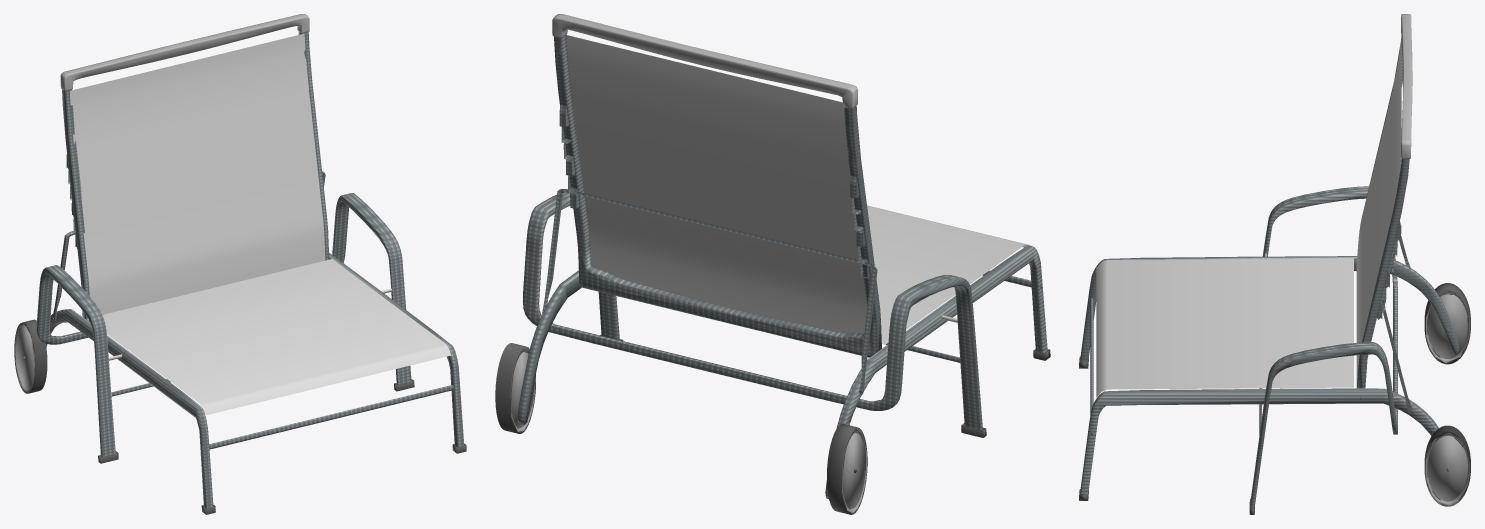
Rendered from sh-scopia-beach-chair.glb.
The picture shows the model from 3 angles, left to right: view 1: azimuth 30°, elevation 25°; view 2: azimuth 150°, elevation 25°; view 3: azimuth 270°, elevation 25°; orthographic projection. The views are drawn at different scales.
Visible parts, largest first — view 1: fabric_Cube_1_1_1_1, 3_3_3_3, 2_2_2_2, 6_6_6_6, 7_7_7_7; view 2: fabric_Cube_1_1_1_1, 3_3_3_3, 2_2_2_2, 6_6_6_6, 7_7_7_7; view 3: fabric_Cube_1_1_1_1, 3_3_3_3, 7_7_7_7, 6_6_6_6, 2_2_2_2.
Boxes of the visible parts, left/top/right/bottom form: fabric_Cube_1_1_1_1: left=70, top=33, right=451, bottom=415; 3_3_3_3: left=36, top=31, right=464, bottom=508; 2_2_2_2: left=60, top=14, right=309, bottom=90; 6_6_6_6: left=14, top=319, right=466, bottom=514; 7_7_7_7: left=15, top=324, right=34, bottom=392; fabric_Cube_1_1_1_1: left=566, top=35, right=1028, bottom=344; 3_3_3_3: left=517, top=35, right=1047, bottom=499; 2_2_2_2: left=552, top=14, right=857, bottom=108; 6_6_6_6: left=495, top=335, right=1050, bottom=514; 7_7_7_7: left=510, top=349, right=866, bottom=513; fabric_Cube_1_1_1_1: left=1096, top=34, right=1401, bottom=397; 3_3_3_3: left=1080, top=34, right=1459, bottom=507; 7_7_7_7: left=1426, top=290, right=1470, bottom=505; 6_6_6_6: left=1079, top=283, right=1470, bottom=514; 2_2_2_2: left=1401, top=14, right=1412, bottom=158.
Size of the model in its own units: 1 by 1 by 1.
Materials: 7 (1 with a texture image).
